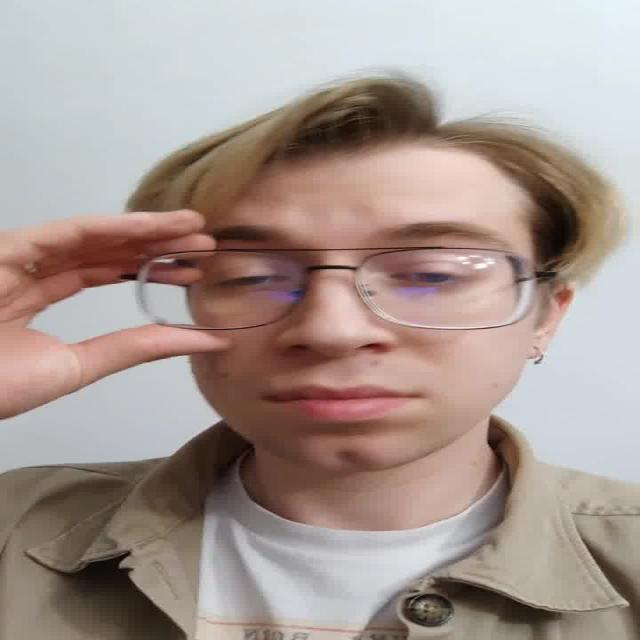earlobe: (525, 280, 576, 360)
